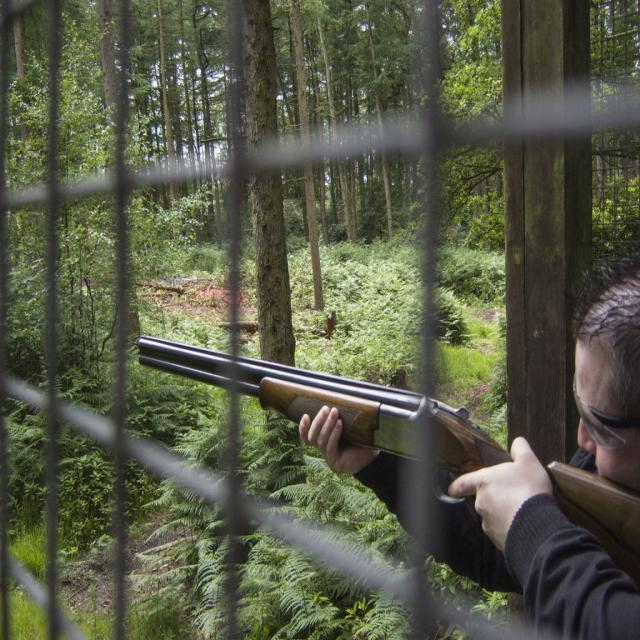weapon: (130, 334, 640, 589)
